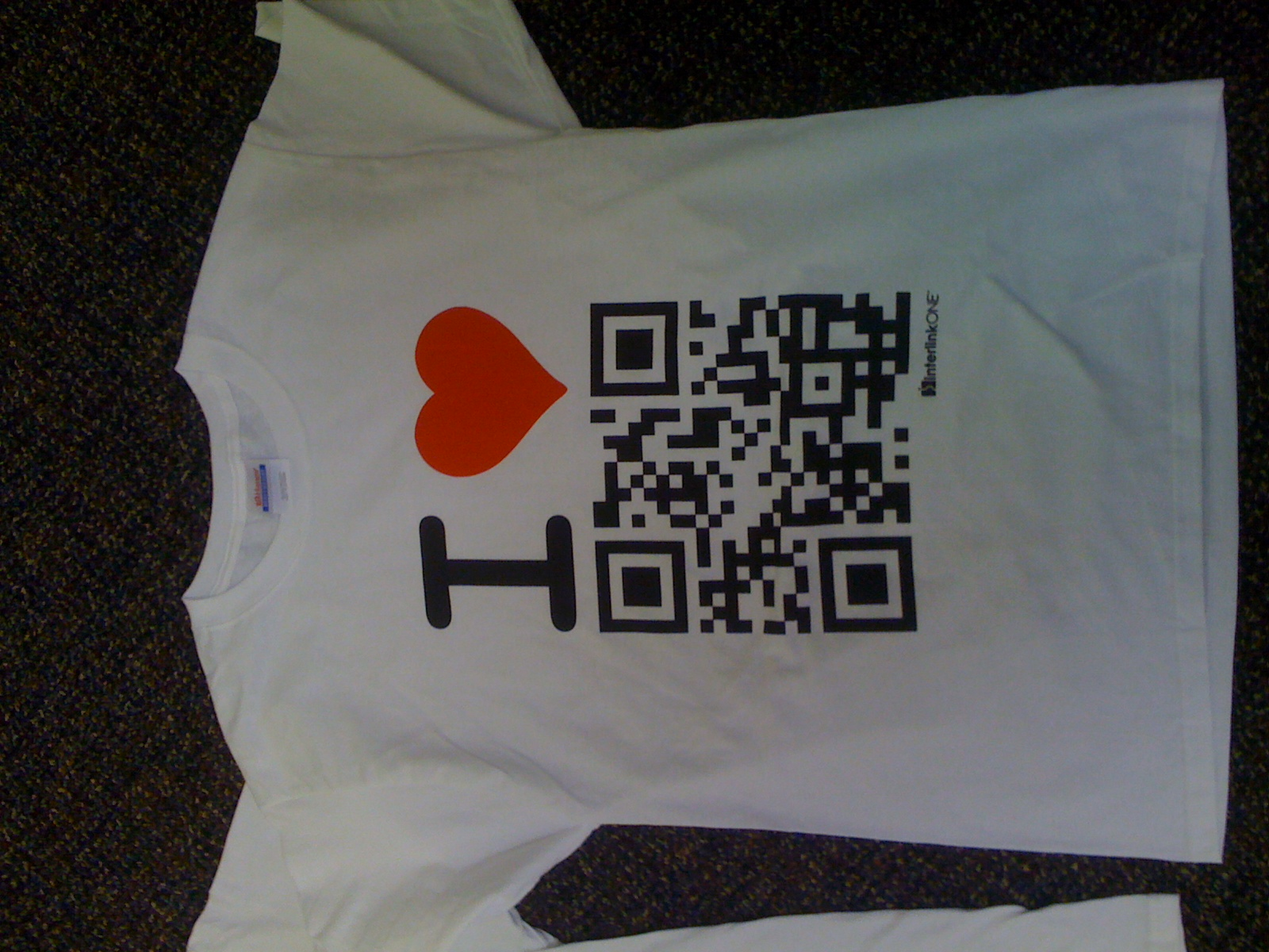QR-CODE: (590, 291, 917, 633)
